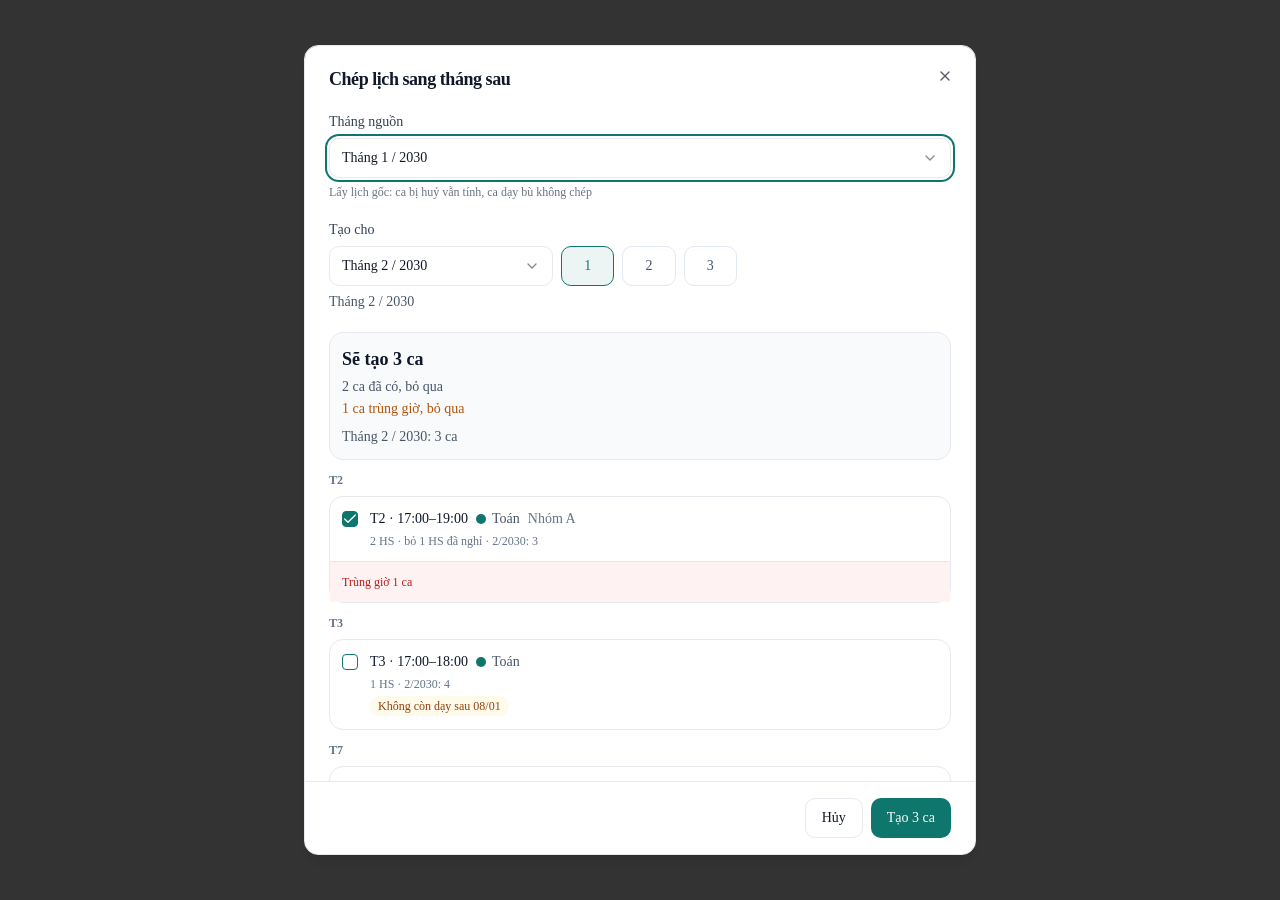
CopyMonthDialog › mẫu regular tích sẵn, stopped/single không; pill loại, ngày dừng, HS bị bỏ, danh sách trùng giờ
Expected: the text "Không còn dạy sau 08/01" is shown, 370,696 -> 509,716
Expected: the element with test id "copy-pattern" shows "bỏ 1 HS đã nghỉ", 394,534 -> 482,548
Step 1. Click the button "Trùng giờ 1 ca" → coordinates (377, 582), box 342,566 -> 412,598
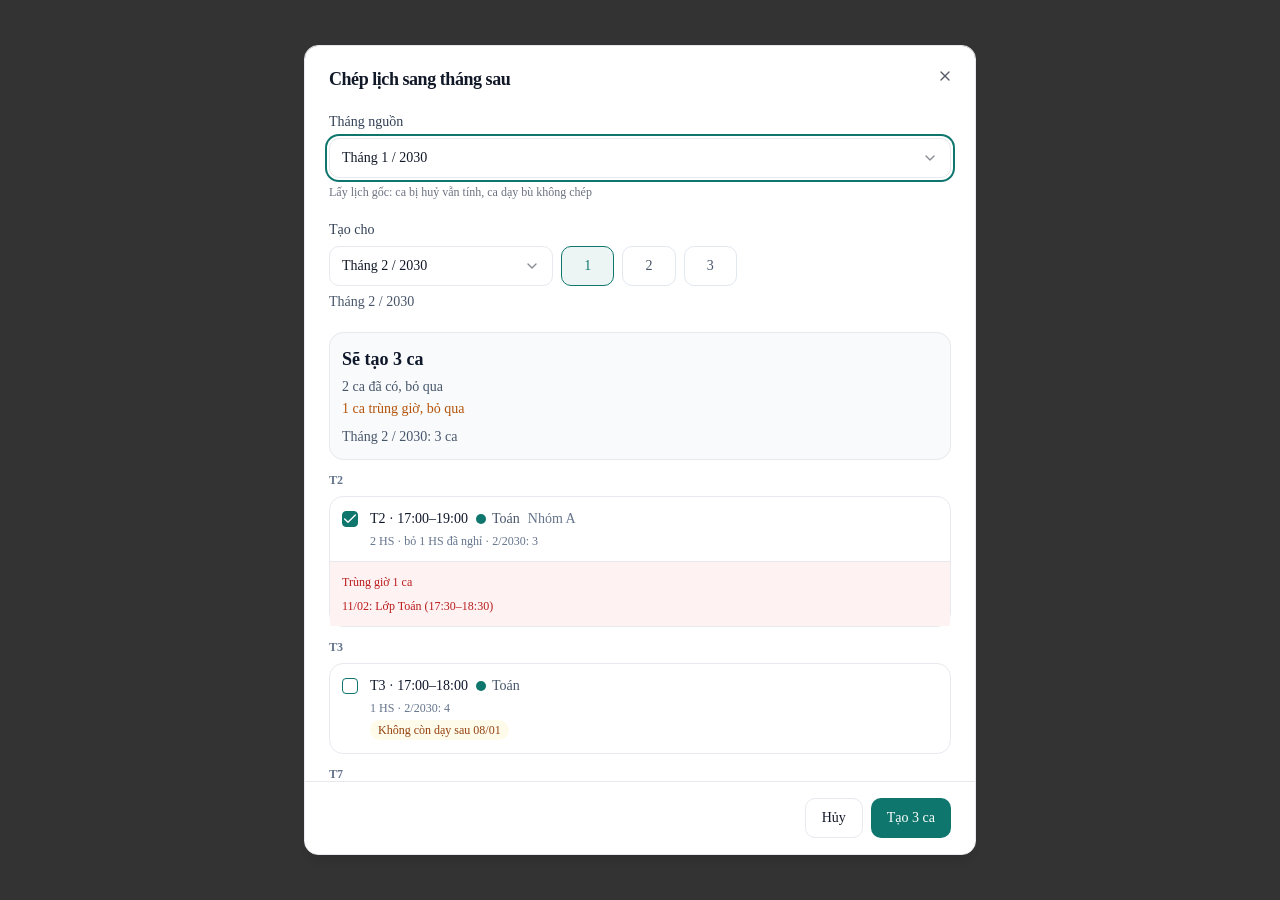
Now the list item "11/02: Lớp Toán (17:30–18:30)" is shown, box 342,599 -> 493,613
